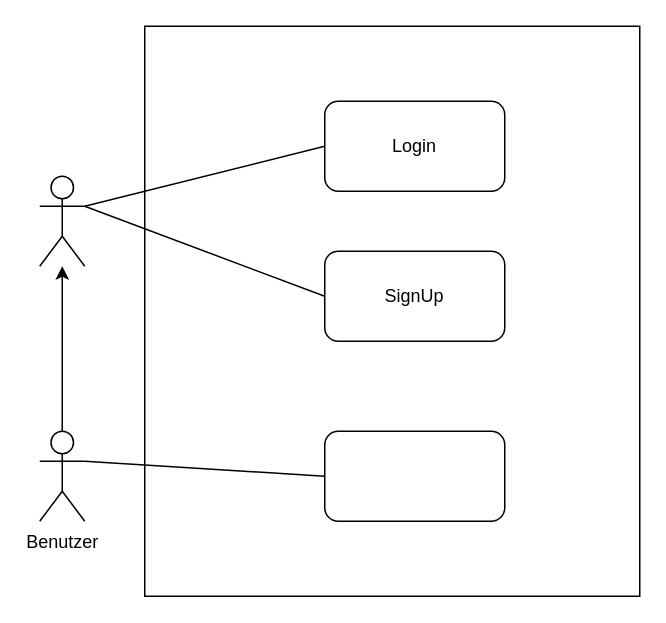
The diagram is 666 pixels wide and 623 high, and some of its shapes have lost their labels. Each missing label, with the centre of its shape:
Gast: the point at 61,220
Logout: the point at 414,475
